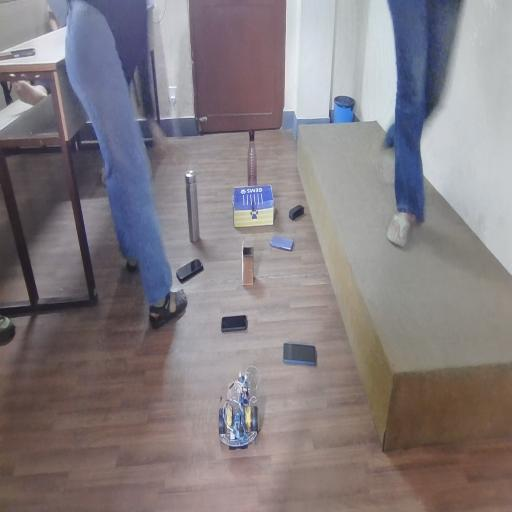Bottle: (244, 123, 263, 182)
car: (211, 372, 264, 452)
